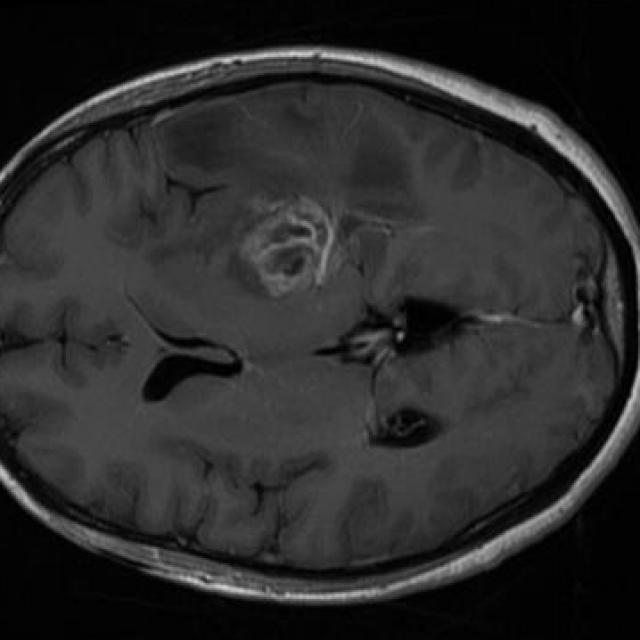glioma: (237, 196, 341, 299)
